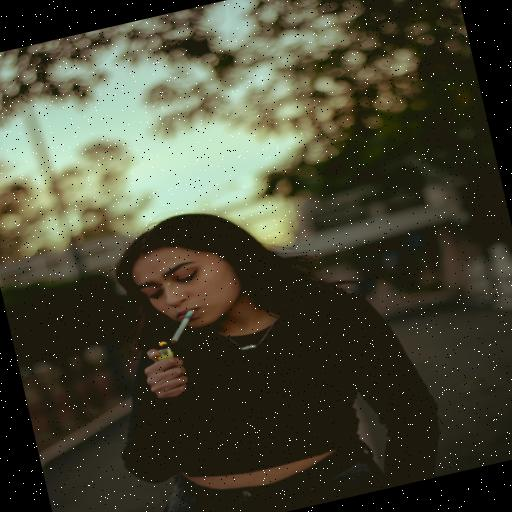terdeteksi merokok: (123, 260, 240, 368)
